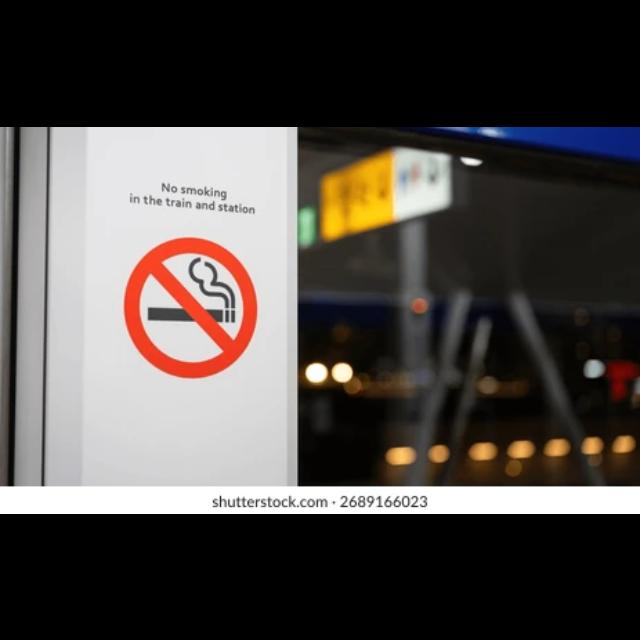cam hut thuoc: (93, 162, 284, 404)
